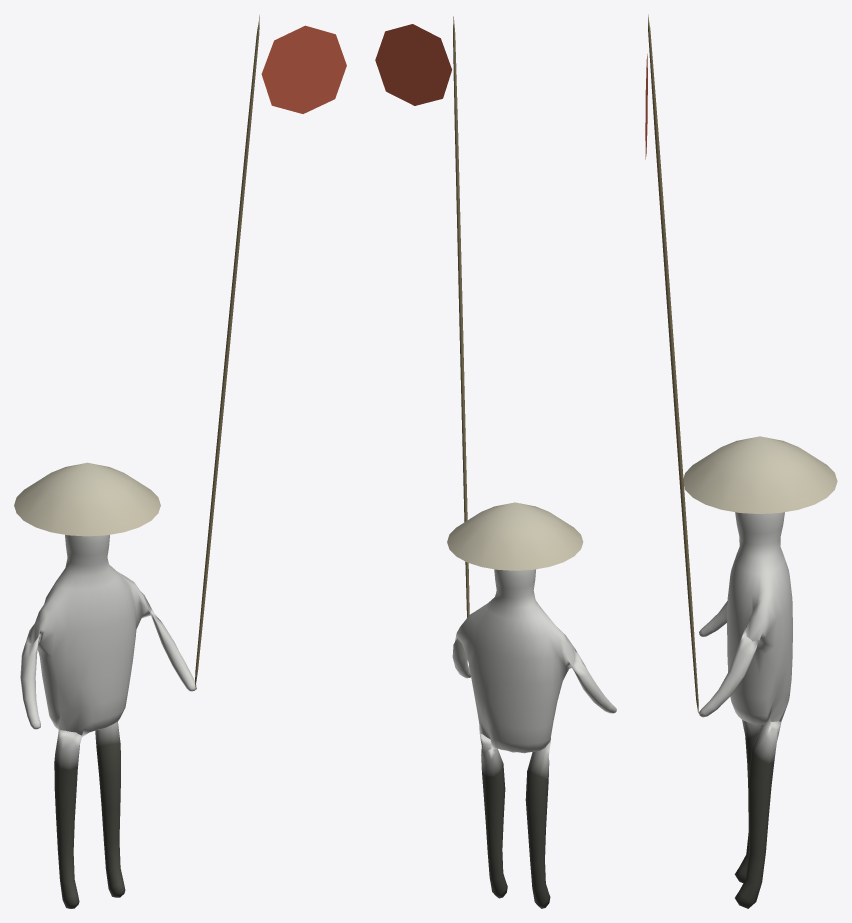
File: keeper-0.glb
3 views of the same model, side by side, from view 1: azimuth 30°, elevation 25°; view 2: azimuth 150°, elevation 25°; view 3: azimuth 270°, elevation 25° (orthographic). The views are drawn at different scales.
Parts seen in each view (by area): view 1: keeper; view 2: keeper; view 3: keeper.
Boxes of the visible parts, <box> form: keeper: <box>14,15,346,908</box>; keeper: <box>375,16,616,908</box>; keeper: <box>645,14,837,908</box>.
Size of the model in its own units: 1.25 by 3.72 by 0.6866.
